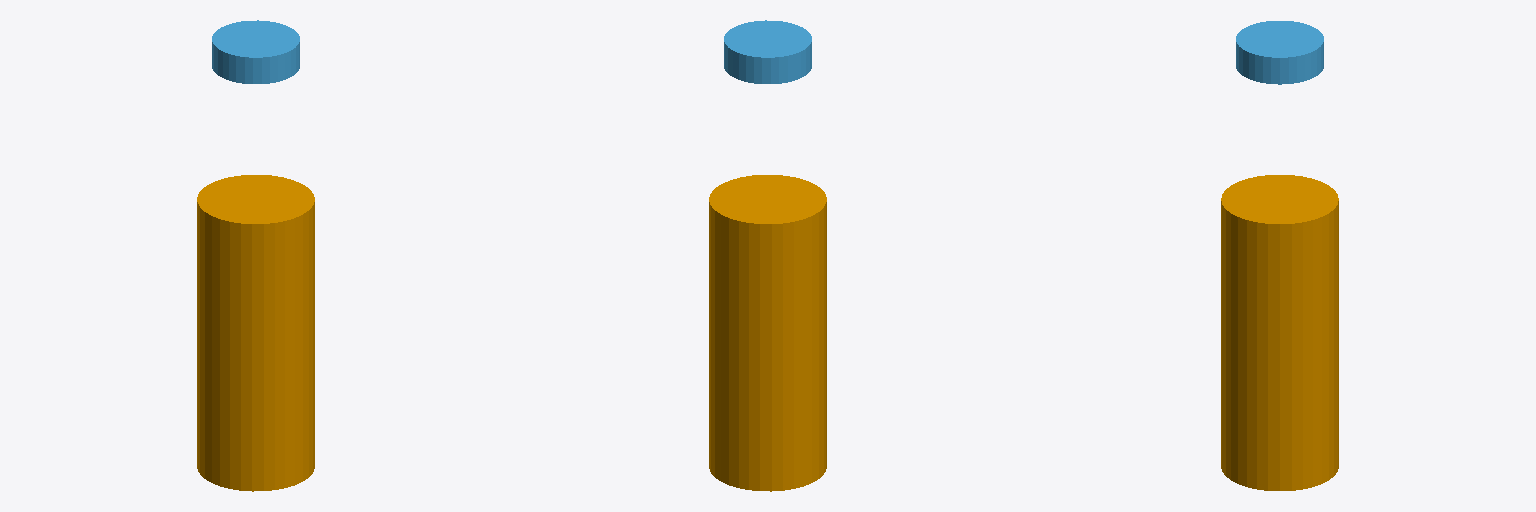
The robot description file, URDF, robot "bottle":

<robot name="bottle">
  <link name="bottle_link">
    <visual>
      <geometry>
        <cylinder length="0.2" radius="0.04"/>
      </geometry>
    </visual>
    <collision>
      <geometry>
        <cylinder length="0.2" radius="0.04"/>
      </geometry>
    </collision>
    <inertial>
      <mass value="0.1"/>
      <inertia ixx="0.001" iyy="0.001" izz="0.001" ixy="0" ixz="0" iyz="0"/>
    </inertial>
  </link>

  <link name="cap_link">
    <visual>
      <geometry>
        <cylinder length="0.02" radius="0.03"/>
      </geometry>
      <origin xyz="0 0 0.11" rpy="0 0 0"/> </visual>
    </link>

  <joint name="cap_joint" type="revolute">
    <parent link="bottle_link"/>
    <child link="cap_link"/>
    <origin xyz="0 0 0.1" rpy="0 0 0"/> <axis xyz="0 0 1"/> <limit lower="-6.28" upper="6.28" effort="10" velocity="1.0"/>
    <dynamics damping="0.1" friction="0.8"/> </joint>
</robot>

--- Facts derived from the render (not from the file) ---
3 views of the same robot in one strip: view 1: azimuth 30°, elevation 25°; view 2: azimuth 150°, elevation 25°; view 3: azimuth 270°, elevation 25° (orthographic).
Model bottle with 2 links and 1 joints (1 revolute), rooted at bottle_link, posed every joint at zero.
Visible links, largest first — view 1: bottle_link, cap_link; view 2: bottle_link, cap_link; view 3: bottle_link, cap_link.
Boxes of the visible links, x1,y1,x2,y2 form: bottle_link: (197,175,314,491); cap_link: (212,20,299,83); bottle_link: (709,175,826,491); cap_link: (724,20,811,83); bottle_link: (1221,175,1338,490); cap_link: (1236,21,1323,84).
Size in the robot's own frame: 0.08 by 0.08 by 0.32 metres.
Geometry: primitives only (box / cylinder / sphere), no mesh files.